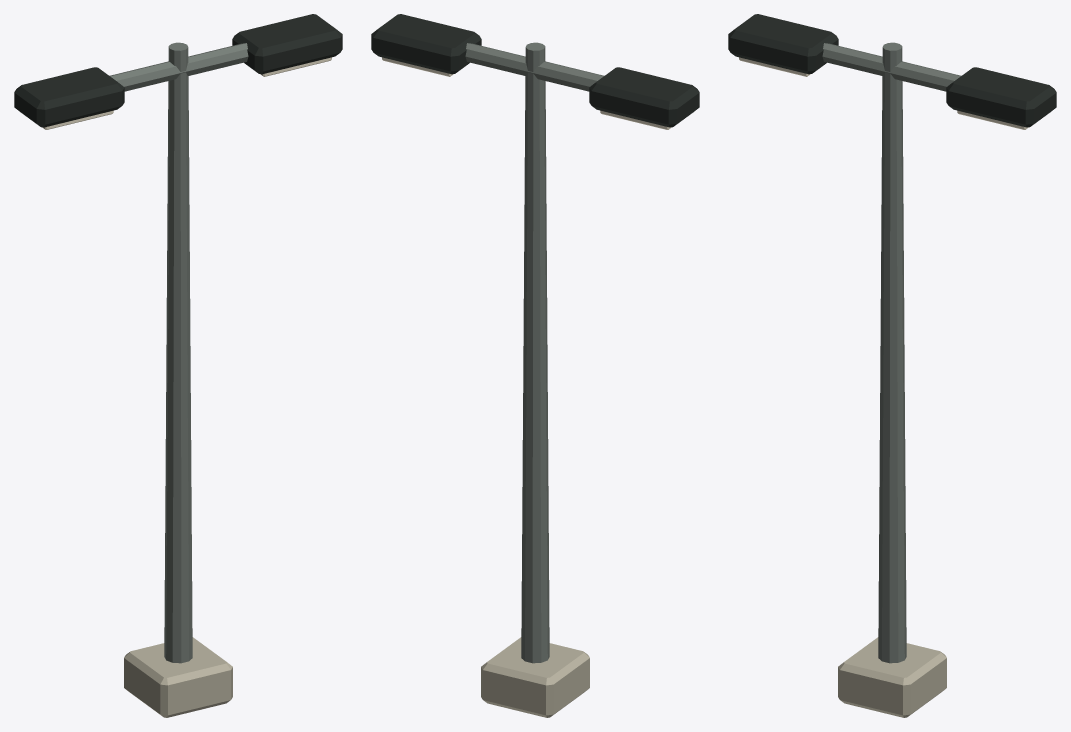
File: platform-lamp.glb
The picture shows the model from 3 angles, left to right: view 1: azimuth 30°, elevation 25°; view 2: azimuth 150°, elevation 25°; view 3: azimuth 330°, elevation 25°; orthographic projection.
Visible parts, largest first — view 1: platform-lamp; view 2: platform-lamp; view 3: platform-lamp.
Part boxes in pixels (bbox=[...]): platform-lamp: bbox=[14, 14, 342, 717]; platform-lamp: bbox=[371, 14, 699, 717]; platform-lamp: bbox=[728, 14, 1056, 717].
Bounding box in the file's own units: 1.6 × 3.25 × 0.38.
